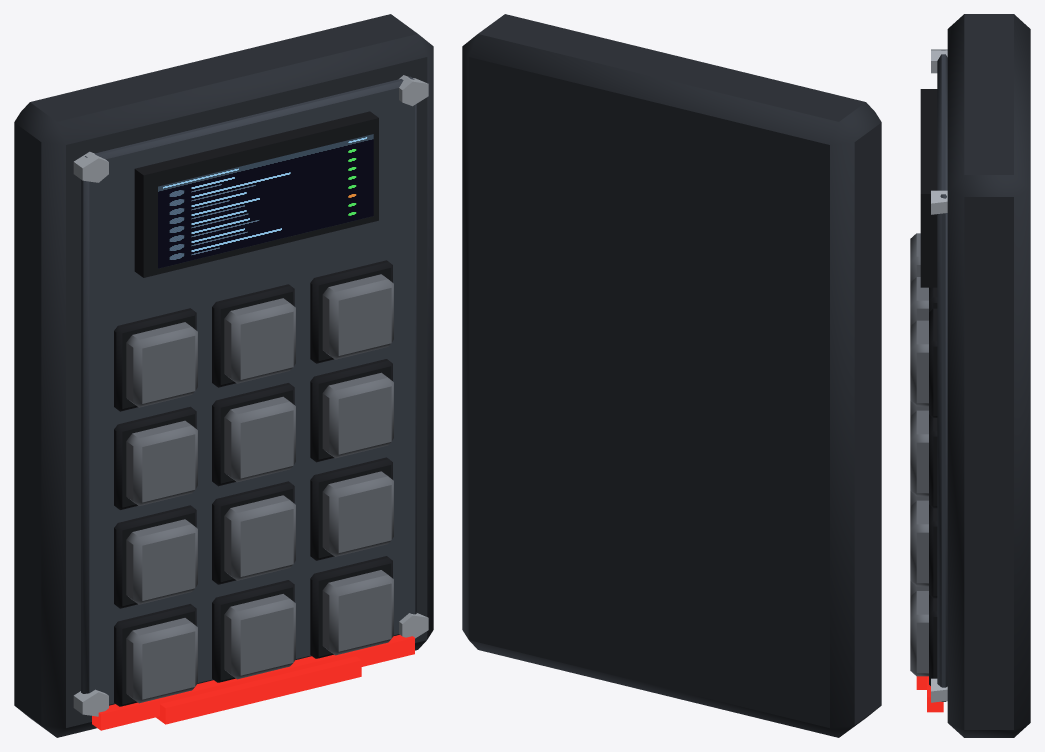
Rendered from controlpanel_keypad_lock.glb.
3 renders of one model, left to right at view 1: azimuth 30°, elevation 25°; view 2: azimuth 150°, elevation 25°; view 3: azimuth 270°, elevation 25°, orthographic. The views are drawn at different scales.
Visible parts, largest first — view 1: controlpanel_keypad_lock; view 2: controlpanel_keypad_lock; view 3: controlpanel_keypad_lock.
Boxes of the visible parts, bbox=[...] form: controlpanel_keypad_lock: bbox=[14, 14, 433, 737]; controlpanel_keypad_lock: bbox=[462, 14, 881, 737]; controlpanel_keypad_lock: bbox=[910, 14, 1030, 737].
Bounding box in the file's own units: 0.2 × 0.3 × 0.058.
Materials: 7 (1 with a texture image).
